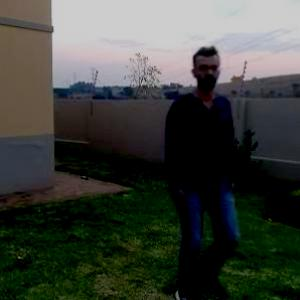follow: (161, 42, 236, 299)
